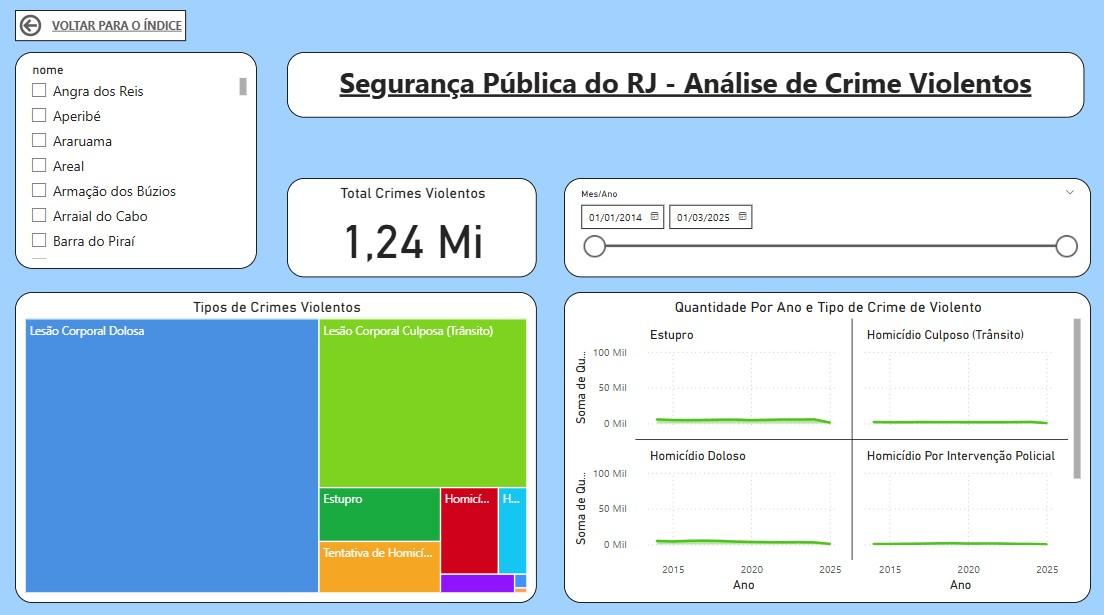

The page's visual inventory and layout, read from the dashboard file:
{"tool":"powerbi","page":{"name":"Crimes violentos","canvas":[1280,720],"ordinal":3},"visuals":[{"type":"slicer","fields":{"Values":["MunicipiosRJ.nome"]},"box":[17.4,66,280.1,251.2],"z":0},{"type":"card","title":"Total Crimes Violentos","fields":{"Values":["Medidas.TotalCrimesViolentos"]},"box":[332.2,211.8,289.4,114.6],"z":1000},{"type":"treemap","title":"Tipos de Crimes Violentos","fields":{"Group":["seguranca_rj_mensal.Tipo de Ocorrência"],"Values":["seguranca_rj_mensal.Quantidade"]},"box":[17.4,343.8,604.2,360],"z":2000},{"type":"stackedAreaChart","title":"Quantidade Por Ano e Tipo de Crime de Violento","fields":{"Category":["seguranca_rj_mensal.Mes/Ano.Variation.Hierarquia de datas.Ano"],"Y":["seguranca_rj_mensal.Quantidade"],"Rows":["seguranca_rj_mensal.Tipo de Ocorrência"]},"box":[652.9,343.8,610,360],"z":3000},{"type":"slicer","fields":{"Values":["seguranca_rj_mensal.Mes/Ano"]},"box":[652.9,211.8,610,114.6],"z":4000},{"type":"textbox","box":[332.2,66,922.6,76.4],"z":5000},{"type":"actionButton","title":"VOLTAR","box":[17.4,17.4,197.9,35.9],"z":6000}]}

Visuals, with their boxes in screenshot pixels (x1, y1, x2, y2), scaled from the page's 1280x720 canvas onto the 1104x615 screenshot:
slicer - MunicipiosRJ.nome: (left=15, top=56, right=257, bottom=271)
"Total Crimes Violentos" card: (left=287, top=181, right=536, bottom=279)
"Tipos de Crimes Violentos" treemap: (left=15, top=294, right=536, bottom=601)
"Quantidade Por Ano e Tipo de Crime de Violento" stackedAreaChart: (left=563, top=294, right=1089, bottom=601)
slicer - seguranca_rj_mensal.Mes/Ano: (left=563, top=181, right=1089, bottom=279)
textbox: (left=287, top=56, right=1082, bottom=122)
"VOLTAR" actionButton: (left=15, top=15, right=186, bottom=46)
